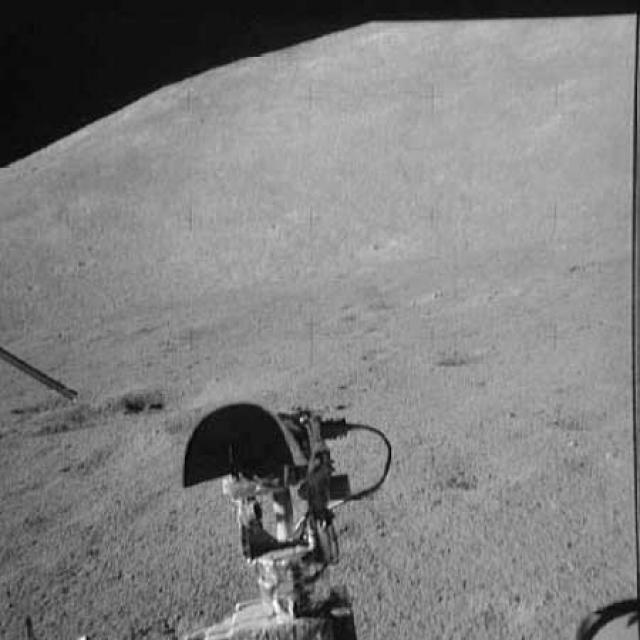artifact: (164, 404, 402, 638), (0, 343, 80, 405)
crater: (33, 383, 209, 431)
